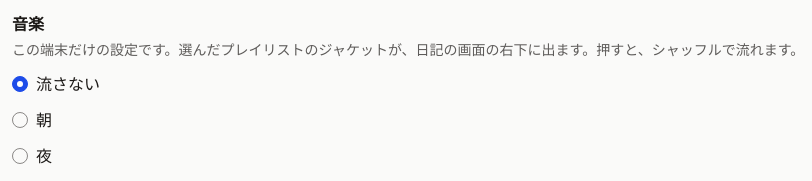
Test: choosing a playlist keeps it with its artwork, and choosing none clears it
The width and height of the screenshot is (812, 181).
Later steps or results of the test are not shown.
Expected: the radio button labelled "流さない" is checked, [12,76,28,92]
Click the radio button labelled "夜": (20, 156) [12,148,28,164]
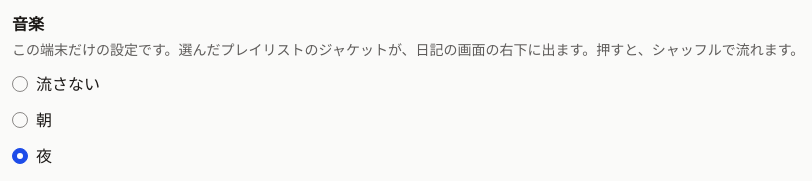
Now the radio button labelled "夜" is checked, box [12,148,28,164]
